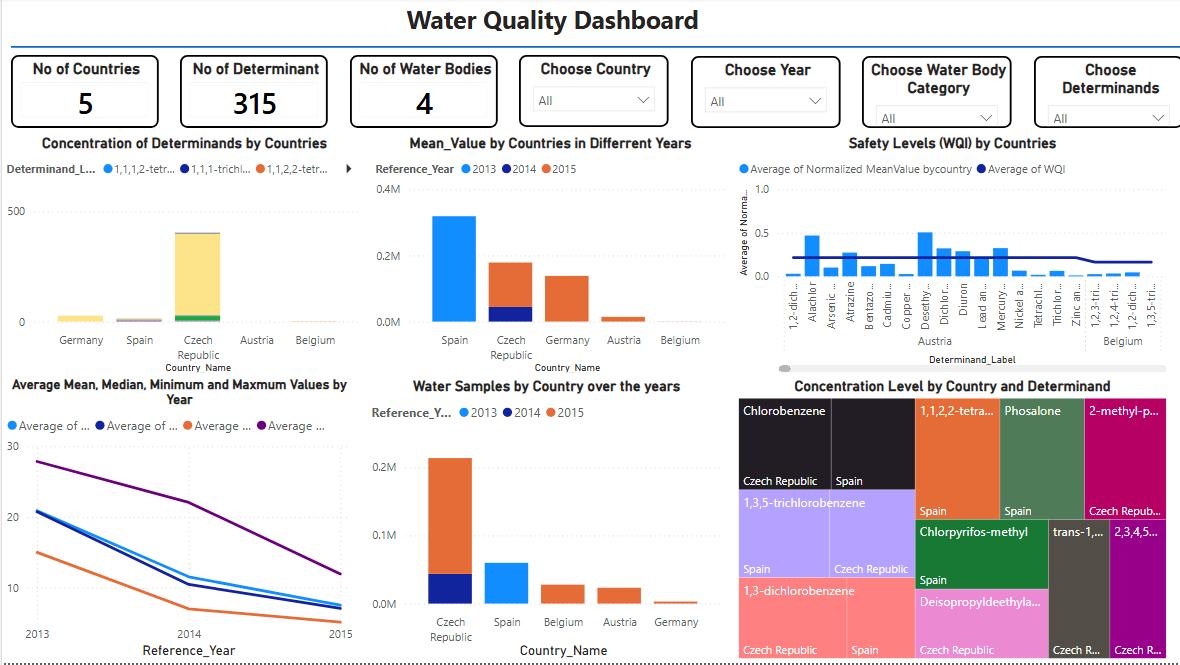

Layout of this report page (visuals, bound fields, positions):
{"tool":"powerbi","page":{"name":"Page 1","canvas":[1280,720],"ordinal":0},"visuals":[{"type":"shape","box":[9.7,0,1270.3,106],"z":0},{"type":"textbox","box":[432.8,0,500.9,45.7],"z":1000},{"type":"cardVisual","title":"No of Countries","fields":{"Data":["Count(gold_water_quality2.Country_Name)"]},"box":[9.7,61.3,159.5,78.8],"z":2000},{"type":"cardVisual","title":"No of Determinant","fields":{"Data":["Count(gold_water_quality2.Determinand_Label)"]},"box":[192.7,61.3,160.5,78.8],"z":3000},{"type":"cardVisual","title":"No of Water Bodies","fields":{"Data":["Count(gold_water_quality2.Water_Body)"]},"box":[376.7,61.3,159.5,78.8],"z":4000},{"type":"slicer","title":"Choose Water Body Category","fields":{"Values":["gold_water_quality2.Water_Body"]},"box":[931.6,62.8,162.4,78],"z":5000},{"type":"slicer","title":"Choose Country","fields":{"Values":["gold_water_quality2.Country_Name"]},"box":[559.7,61.7,162.4,78],"z":6000},{"type":"slicer","title":"Choose Determinands","fields":{"Values":["gold_water_quality2.Determinand_Label"]},"box":[1117.6,62.8,162.4,78],"z":7000},{"type":"slicer","title":"Choose Year","fields":{"Values":["gold_water_quality2.Reference_Year"]},"box":[745.7,62.8,162.4,78],"z":8000},{"type":"columnChart","title":"Concentration of Determinands by Countries","fields":{"Category":["gold_water_quality2.Country_Name"],"Y":["Avg(gold_water_quality2.Maximum_value)"],"Series":["gold_water_quality2.Determinand_Label"]},"box":[0,147.3,395.3,263.1],"z":9000},{"type":"lineChart","title":"Average Mean, Median, Minimum and Maxmum Values by Year","fields":{"Category":["gold_water_quality2.Reference_Year"],"Y":["Avg(gold_water_quality2.Mean_Value)","Avg(gold_water_quality2.Median_Value)","Avg(gold_water_quality2.Minimum_Value)","Avg(gold_water_quality2.Maximum_value)"]},"box":[0,410.4,384.4,309.7],"z":10000},{"type":"lineStackedColumnComboChart","title":"Safety Levels (WQI) by Countries","fields":{"Category":["gold_water_quality2.Country_Name","gold_water_quality2.Determinand_Label"],"Y":["Avg(gold_water_quality2.Normalized MeanValue bycountry)"],"Y2":["Avg(gold_water_quality2.WQI)"]},"box":[792.7,147.3,473.2,263.1],"z":11000},{"type":"treemap","title":"Concentration Level by Country and Determinand","fields":{"Group":["gold_water_quality2.Determinand_Label","gold_water_quality2.Reference_Year"],"Details":["gold_water_quality2.Country_Name"],"Values":["Avg(gold_water_quality2.Normalized MeanValue bycountry)"]},"box":[792.7,410.3,473.2,309.7],"z":12000},{"type":"columnChart","title":"Mean_Value by Countries in Differrent Years","fields":{"Y":["Sum(gold_water_quality2.Mean_Value)"],"Category":["gold_water_quality2.Country_Name"],"Series":["gold_water_quality2.Reference_Year"]},"box":[399.6,147.3,388.8,263.1],"z":12001},{"type":"columnChart","title":"Water Samples by Country over the years","fields":{"Series":["gold_water_quality2.Reference_Year"],"Category":["gold_water_quality2.Country_Name"],"Y":["Sum(gold_water_quality2.Num_of_Samples)"]},"box":[395.3,410.4,388.8,309.7],"z":12002}]}

Visuals, with their boxes in screenshot pixels (x1, y1, x2, y2), scaled from the page's 1280x720 canvas onto the 1180x665 screenshot:
shape: bbox=(9, 0, 1179, 98)
textbox: bbox=(399, 0, 861, 42)
"No of Countries" cardVisual: bbox=(9, 57, 156, 129)
"No of Determinant" cardVisual: bbox=(178, 57, 326, 129)
"No of Water Bodies" cardVisual: bbox=(347, 57, 494, 129)
"Choose Water Body Category" slicer: bbox=(859, 58, 1009, 130)
"Choose Country" slicer: bbox=(516, 57, 666, 129)
"Choose Determinands" slicer: bbox=(1030, 58, 1179, 130)
"Choose Year" slicer: bbox=(687, 58, 837, 130)
"Concentration of Determinands by Countries" columnChart: bbox=(0, 136, 364, 379)
"Average Mean, Median, Minimum and Maxmum Values by Year" lineChart: bbox=(0, 379, 354, 664)
"Safety Levels (WQI) by Countries" lineStackedColumnComboChart: bbox=(731, 136, 1167, 379)
"Concentration Level by Country and Determinand" treemap: bbox=(731, 379, 1167, 664)
"Mean_Value by Countries in Differrent Years" columnChart: bbox=(368, 136, 727, 379)
"Water Samples by Country over the years" columnChart: bbox=(364, 379, 723, 664)
